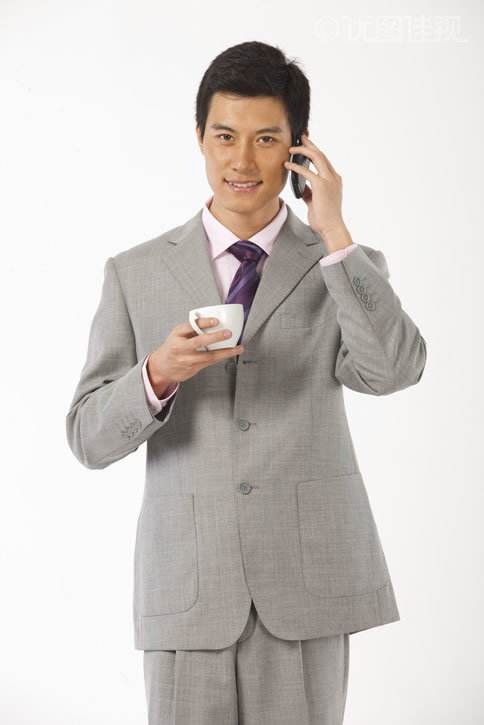calling: (283, 120, 349, 238)
no-phone: (150, 300, 255, 382)
